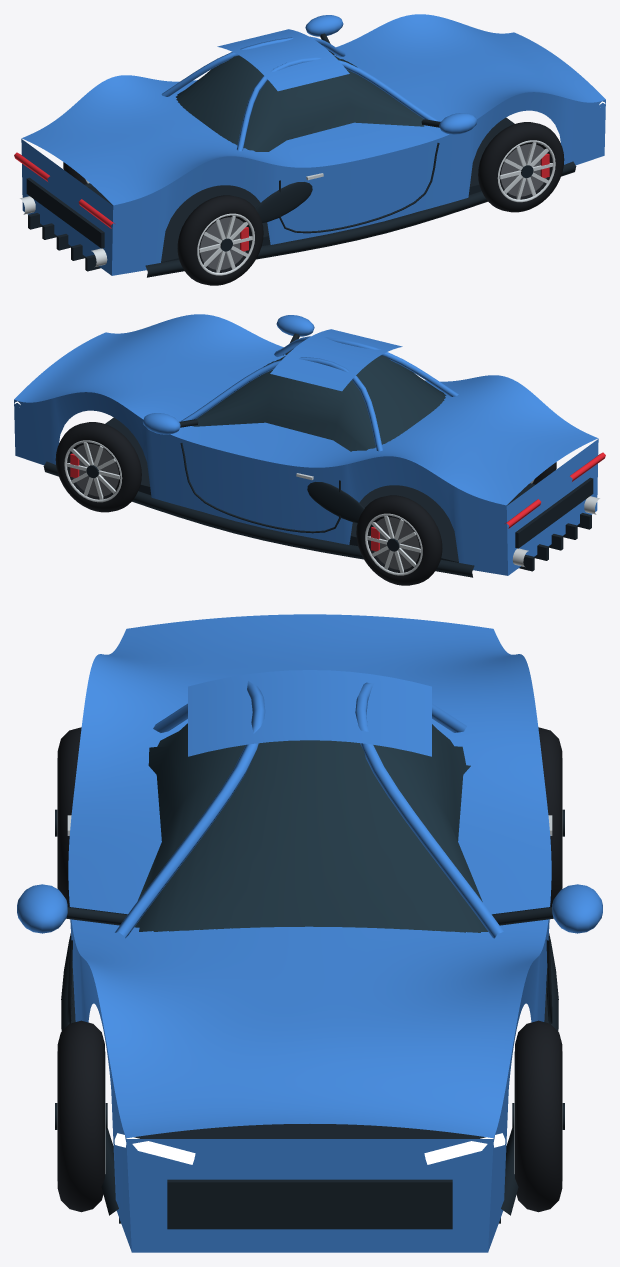
The model's file is car18.glb.
3 renders of one model, top to bottom at view 1: azimuth 30°, elevation 25°; view 2: azimuth 150°, elevation 25°; view 3: azimuth 270°, elevation 25°, orthographic. The views are drawn at different scales.
Parts seen in each view (by area): view 1: CAR18, rim (×2); view 2: CAR18, rim (×2); view 3: CAR18, front-grille.
Boxes of the visible parts, box(x1,y1,x2,y2) form: CAR18: box(14, 14, 605, 285); rim (×2): box(197, 140, 555, 275); CAR18: box(14, 314, 605, 585); rim (×2): box(64, 440, 422, 575); CAR18: box(17, 614, 602, 1252); front-grille: box(167, 1179, 452, 1229).
Bounding box in the file's own units: 4.52 × 1.38 × 2.25.
